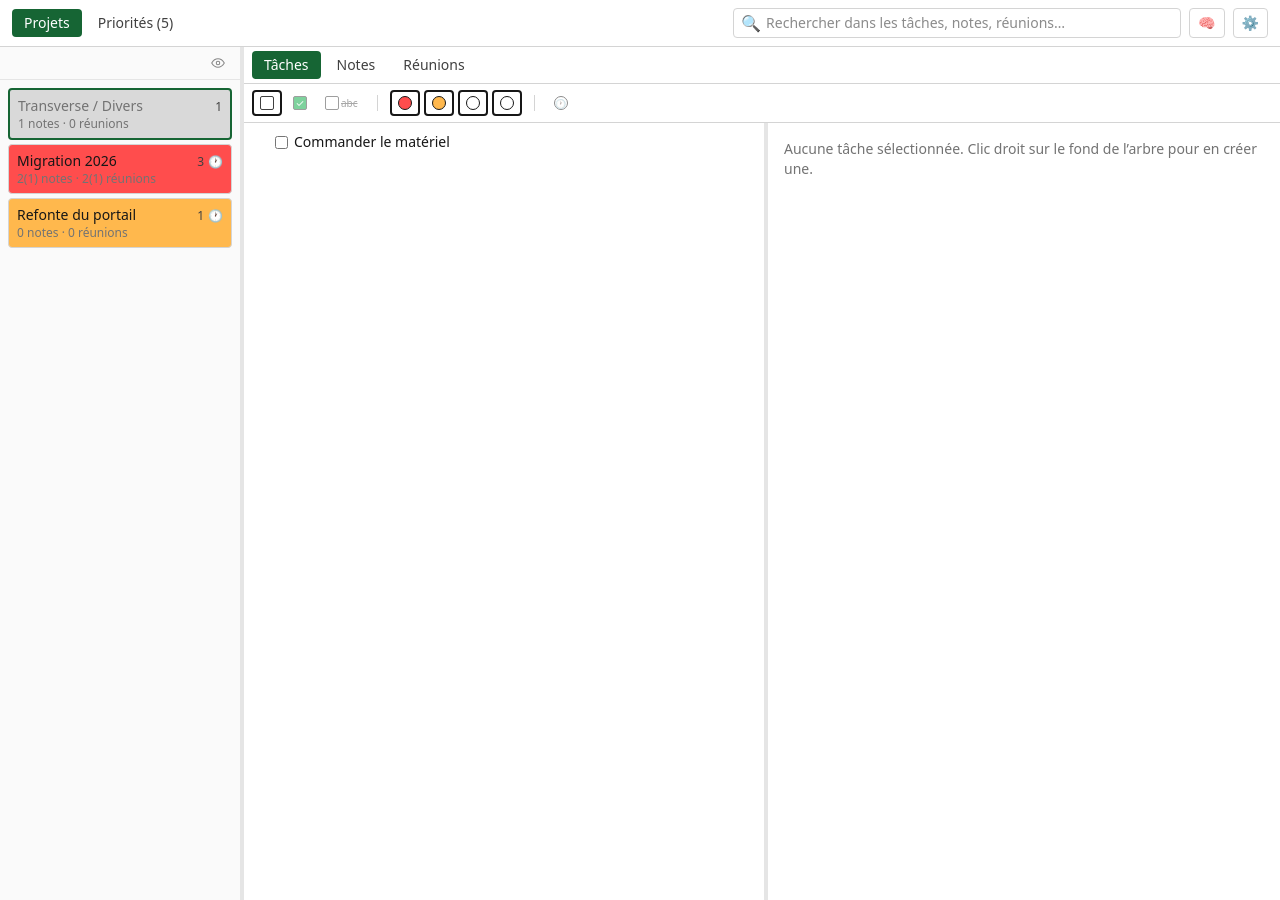
Test: Bascule et résultats sémantiques (§2.12) › un index vide se dit, il ne s’affiche pas comme « aucun résultat »
Check: the navigation bar named "Projets" is shown, box x1=0 y1=80 x2=240 y2=899
Click the button named "Recherche sémantique" at point(1207, 23), box x1=1189 y1=8 x2=1225 y2=38
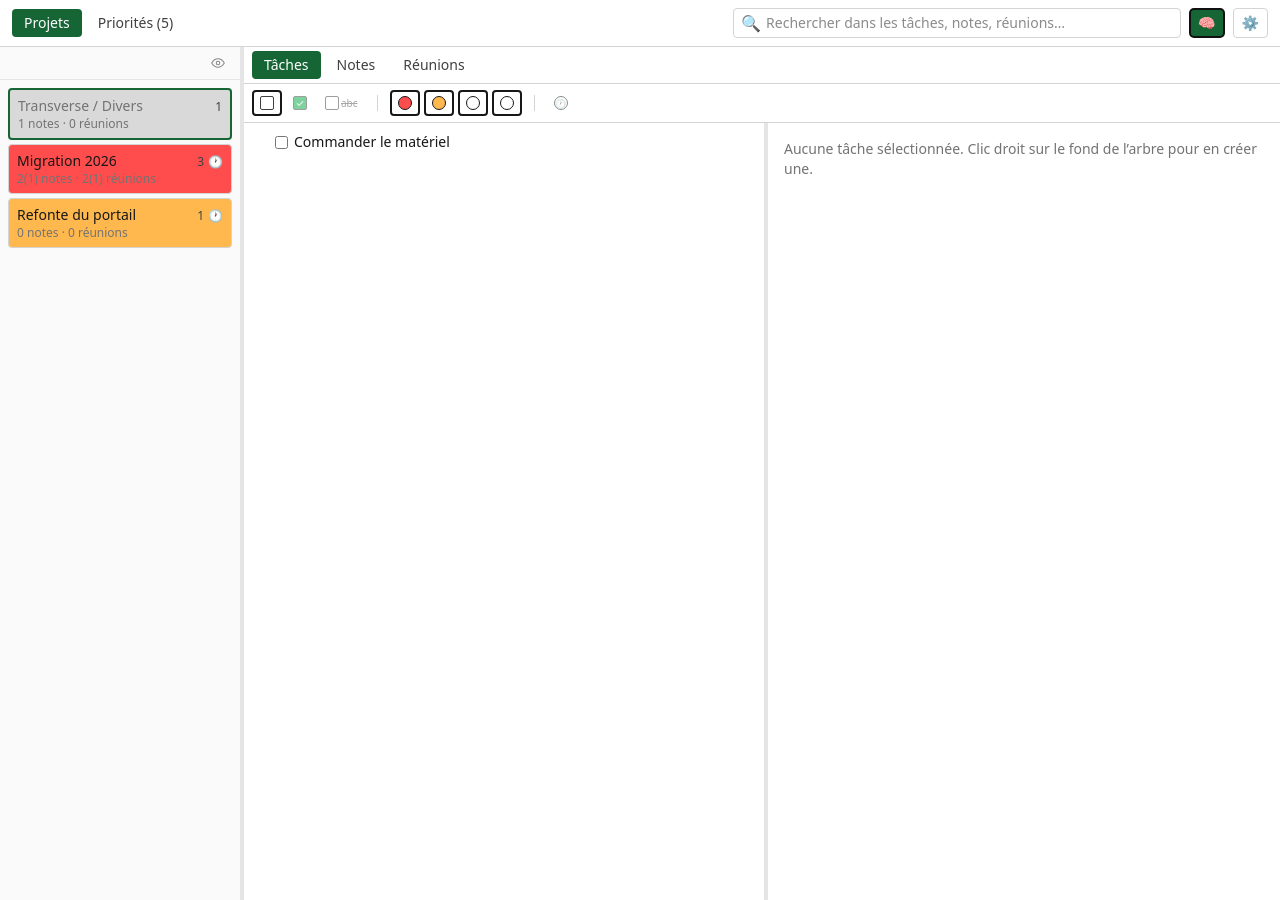
Type "échéance" into the search field named "Rechercher" at point(957, 23), box x1=733 y1=8 x2=1181 y2=38
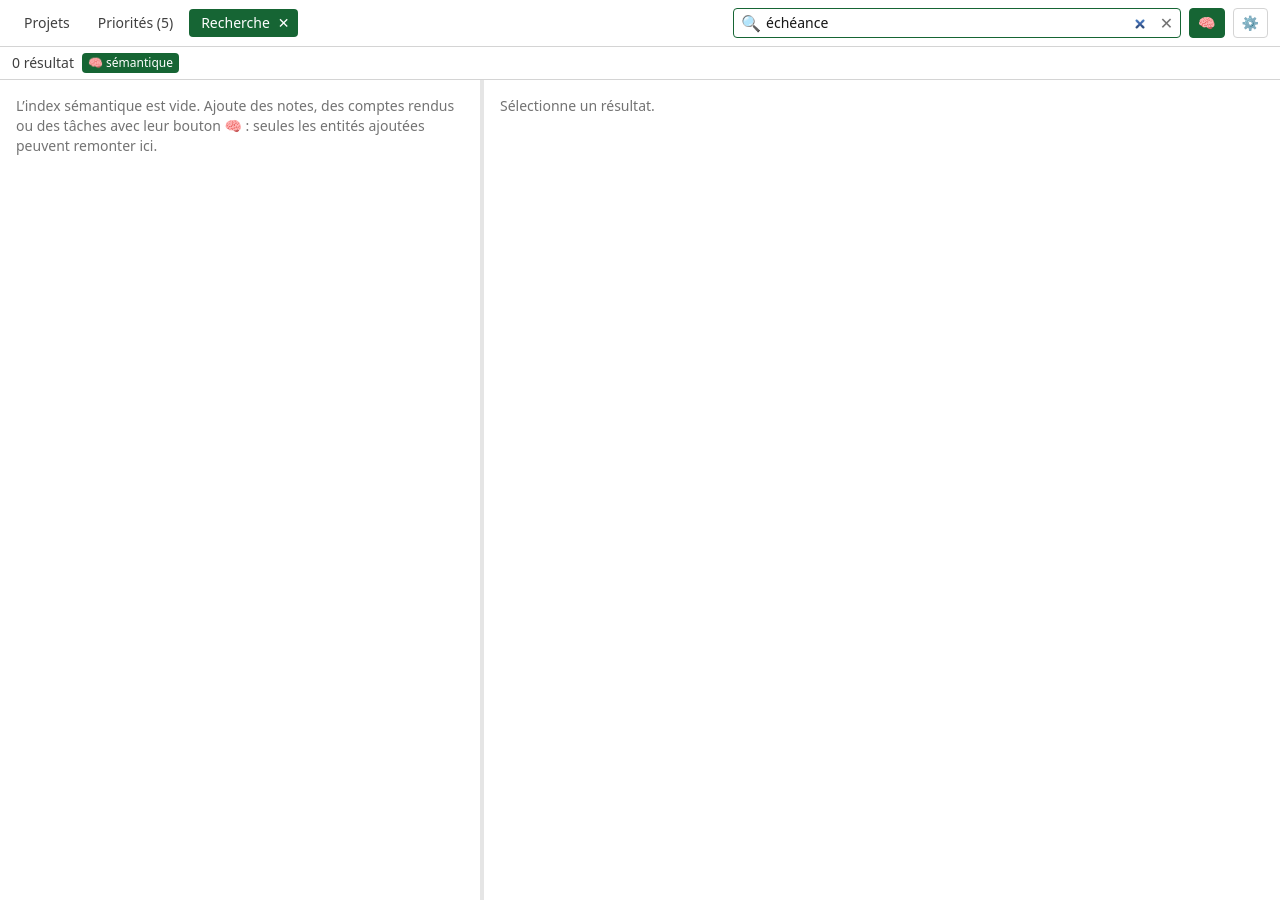
Check: the text "index sémantique est vide" is shown, box x1=16 y1=96 x2=454 y2=155
